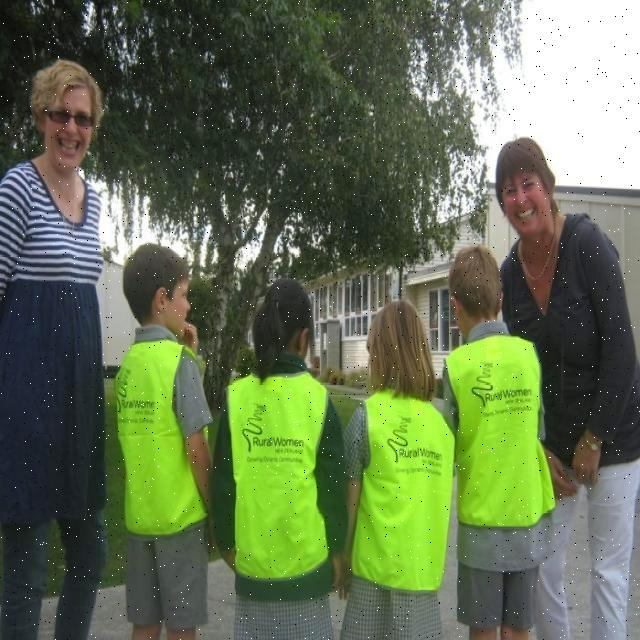Vest: (229, 376, 329, 576), (448, 343, 560, 518), (362, 396, 456, 586), (113, 343, 206, 524)
